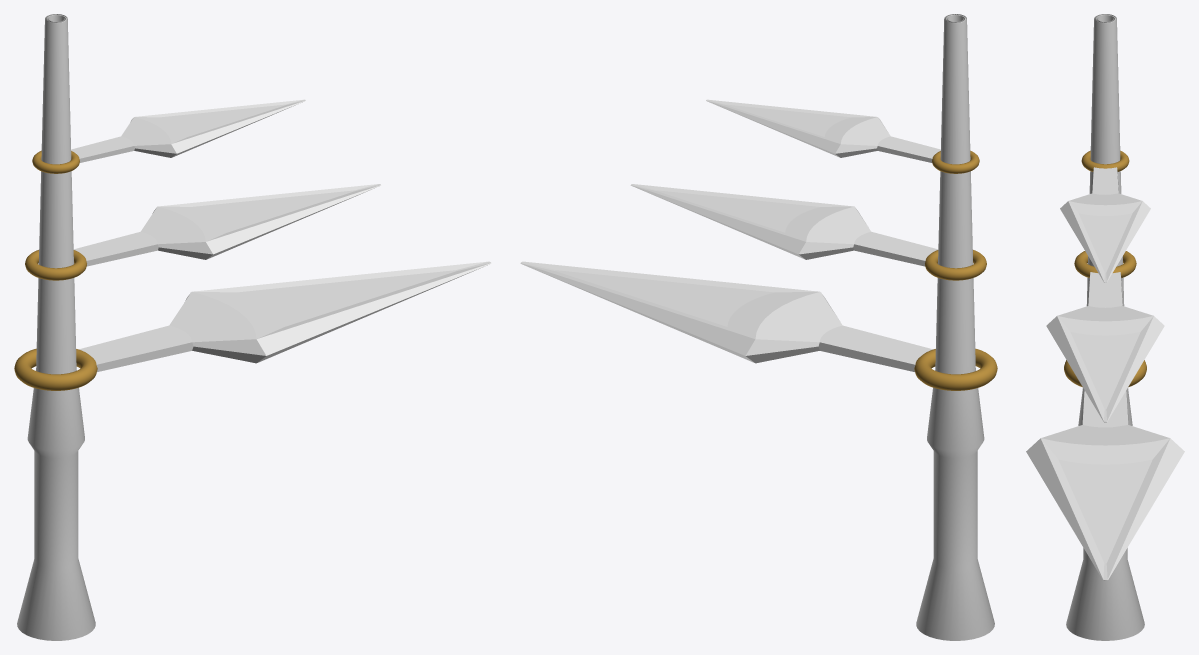
The model's file is engel_fbx_1.fbx.
3 views of the same model, side by side, from view 1: azimuth 30°, elevation 25°; view 2: azimuth 150°, elevation 25°; view 3: azimuth 270°, elevation 25° (orthographic).
Visible parts, largest first — view 1: Torus.005, Cylinder; view 2: Torus.005, Cylinder; view 3: Torus.005, Cylinder.
Part boxes in pixels (left/top/right/bottom): Torus.005: left=14, top=99, right=491, bottom=390; Cylinder: left=17, top=14, right=95, bottom=640; Torus.005: left=520, top=99, right=997, bottom=390; Cylinder: left=916, top=14, right=994, bottom=640; Torus.005: left=1026, top=150, right=1184, bottom=580; Cylinder: left=1066, top=14, right=1144, bottom=640.
Size of the model in its own units: 520 by 638 by 152.
